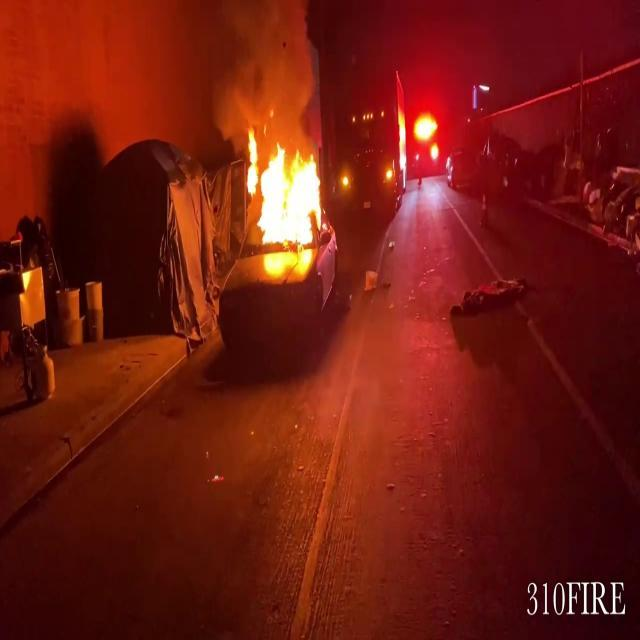Fire: (243, 118, 333, 262)
Smoke: (206, 0, 326, 152)
